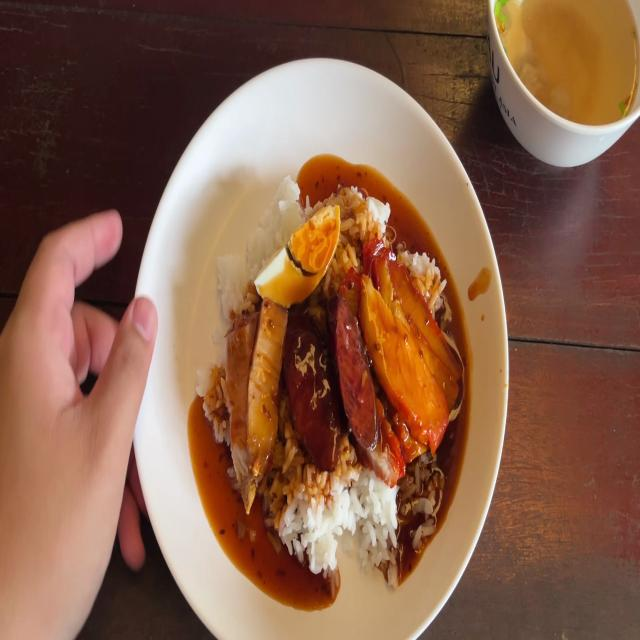red_pork_and_crispy_pork: (252, 206, 338, 303)
stir_fried_basil: (284, 306, 341, 462), (334, 299, 379, 453)
